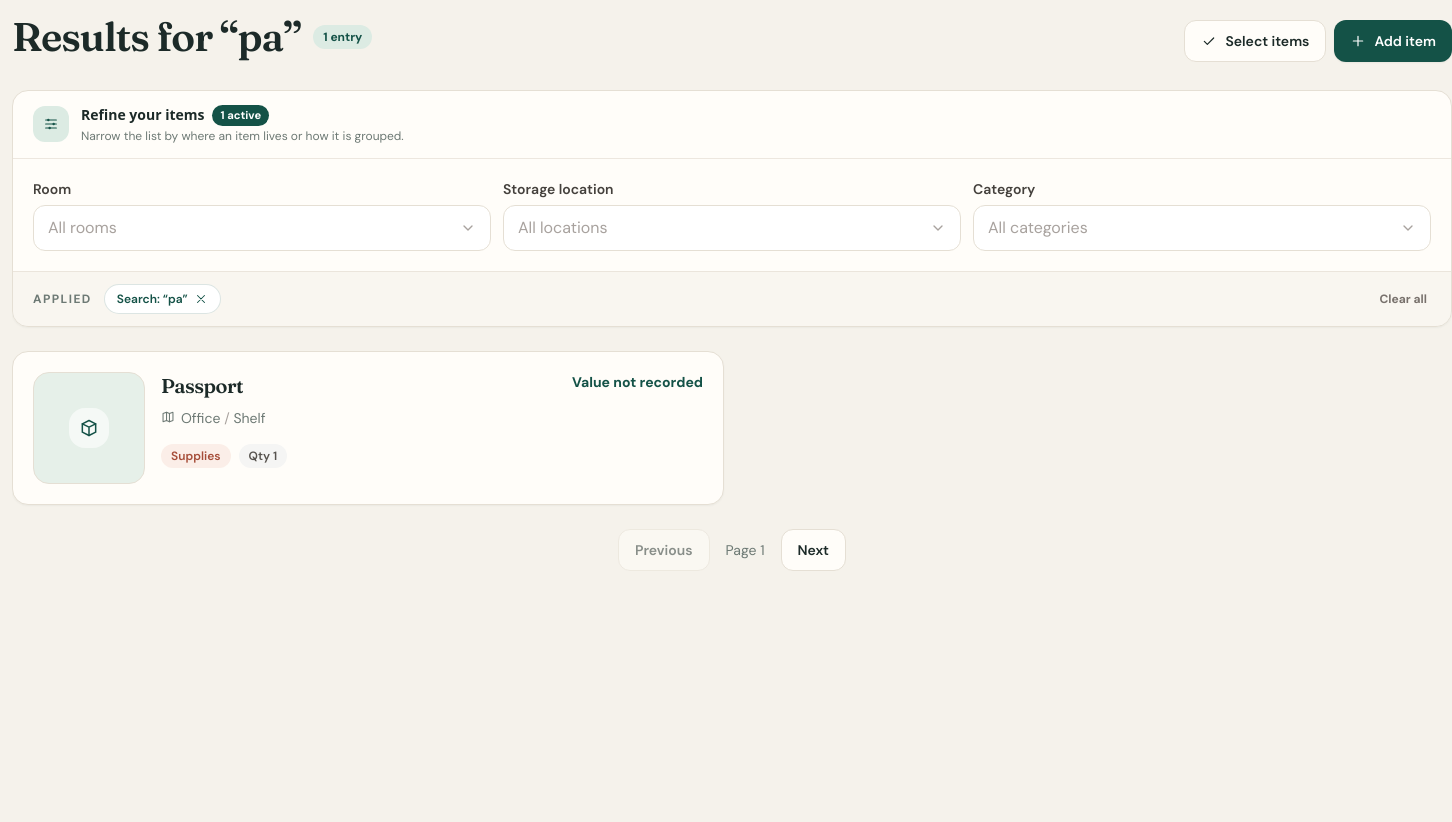
ItemsPage search › trims the query and loads separate next and previous pages
The width and height of the screenshot is (1452, 822).
expect the button "Previous" is disabled: met, box [618,529,710,571]
Click the button "Next": (813, 550) [780,529,846,571]
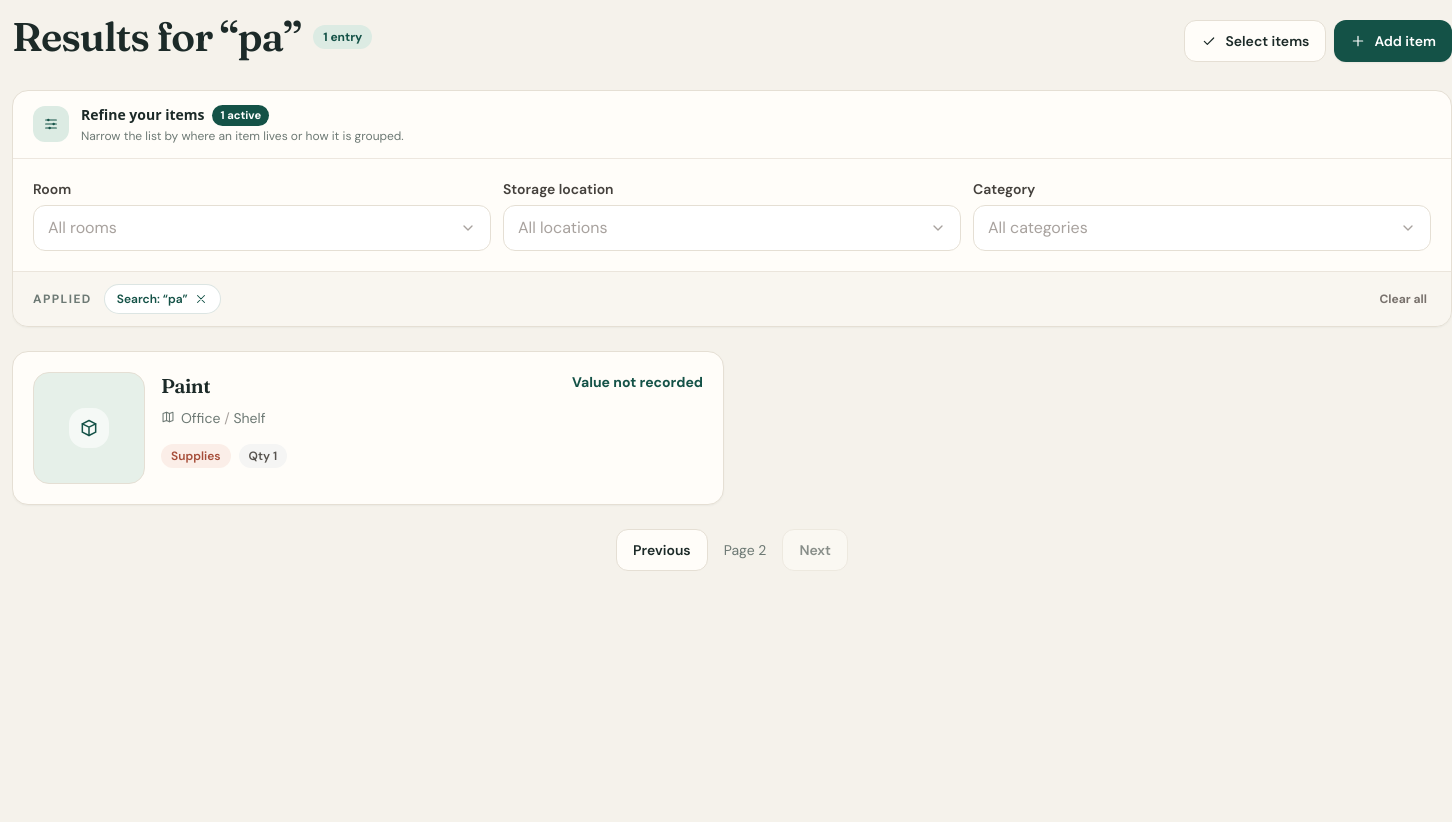
expect the text "Page 2" is shown: met, box [724,540,766,560]
expect the link "Passport" is gone: met
expect the button "Next" is disabled: met, box [782,529,848,571]
Click the button "Previous": (662, 550) [616,529,708,571]
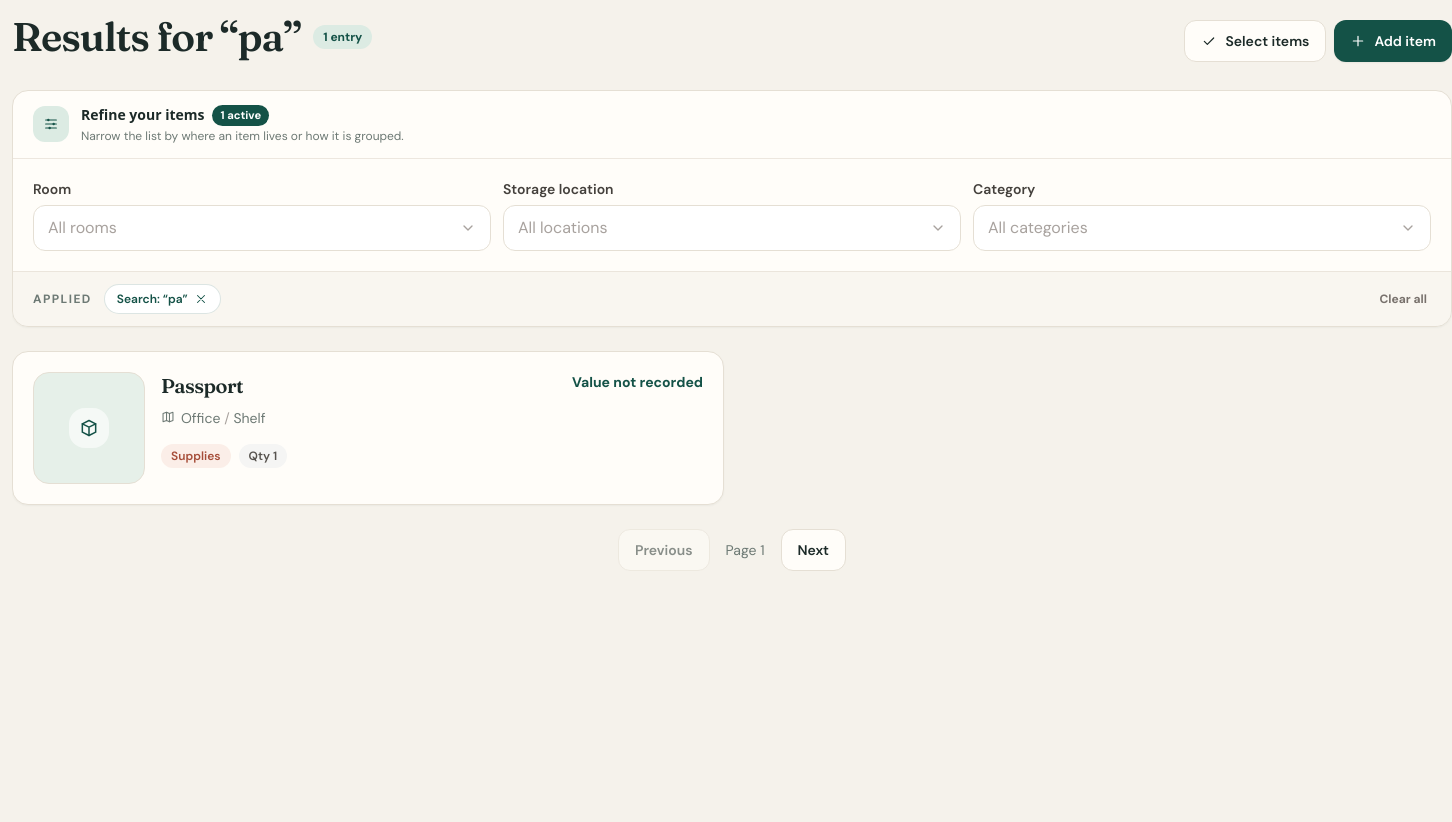
expect the text "Page 1" is shown: met, box [726,540,764,560]
